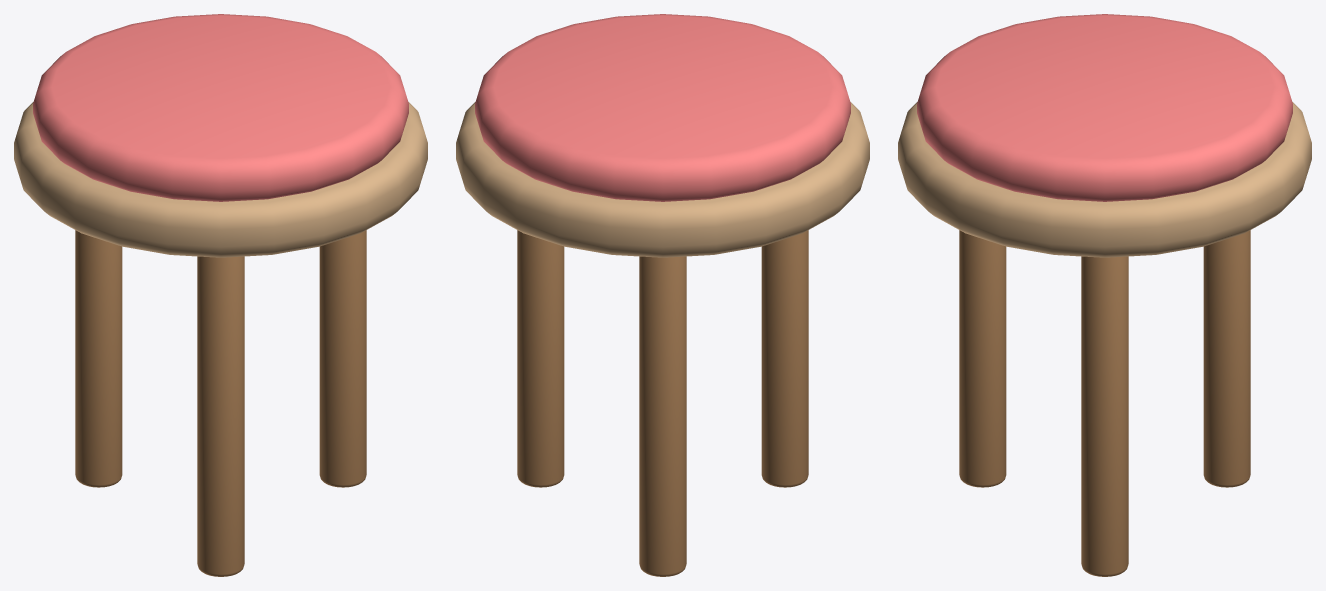
Rendered from stool.glb.
3 views of the same model, side by side, from view 1: azimuth 30°, elevation 25°; view 2: azimuth 150°, elevation 25°; view 3: azimuth 270°, elevation 25° (orthographic).
Visible parts, largest first — view 1: stool; view 2: stool; view 3: stool.
Part boxes in pixels (x1=…): stool: x1=14, y1=14, x2=427, y2=576; stool: x1=456, y1=14, x2=869, y2=576; stool: x1=898, y1=14, x2=1311, y2=576.
Size of the model in its own units: 0.44 by 0.495 by 0.44.
